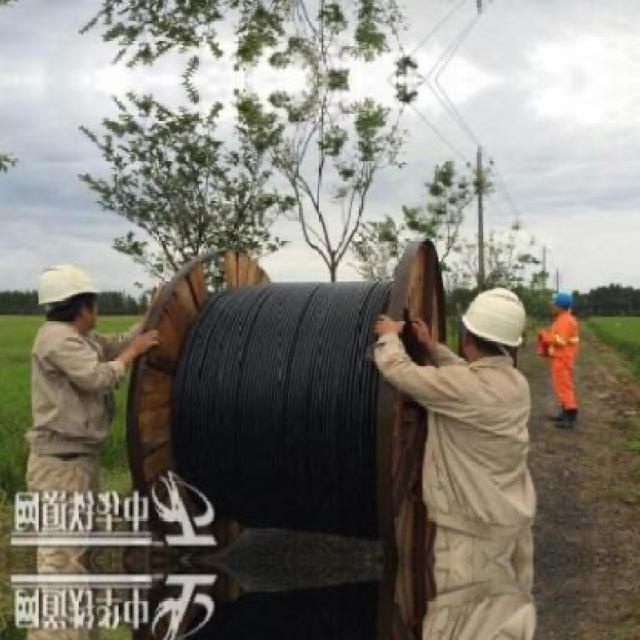helmet: (103, 278, 186, 364), (528, 254, 604, 335), (64, 290, 90, 316)
person: (100, 288, 262, 557), (483, 264, 629, 556), (98, 560, 262, 637), (482, 561, 629, 637), (51, 294, 103, 428)
